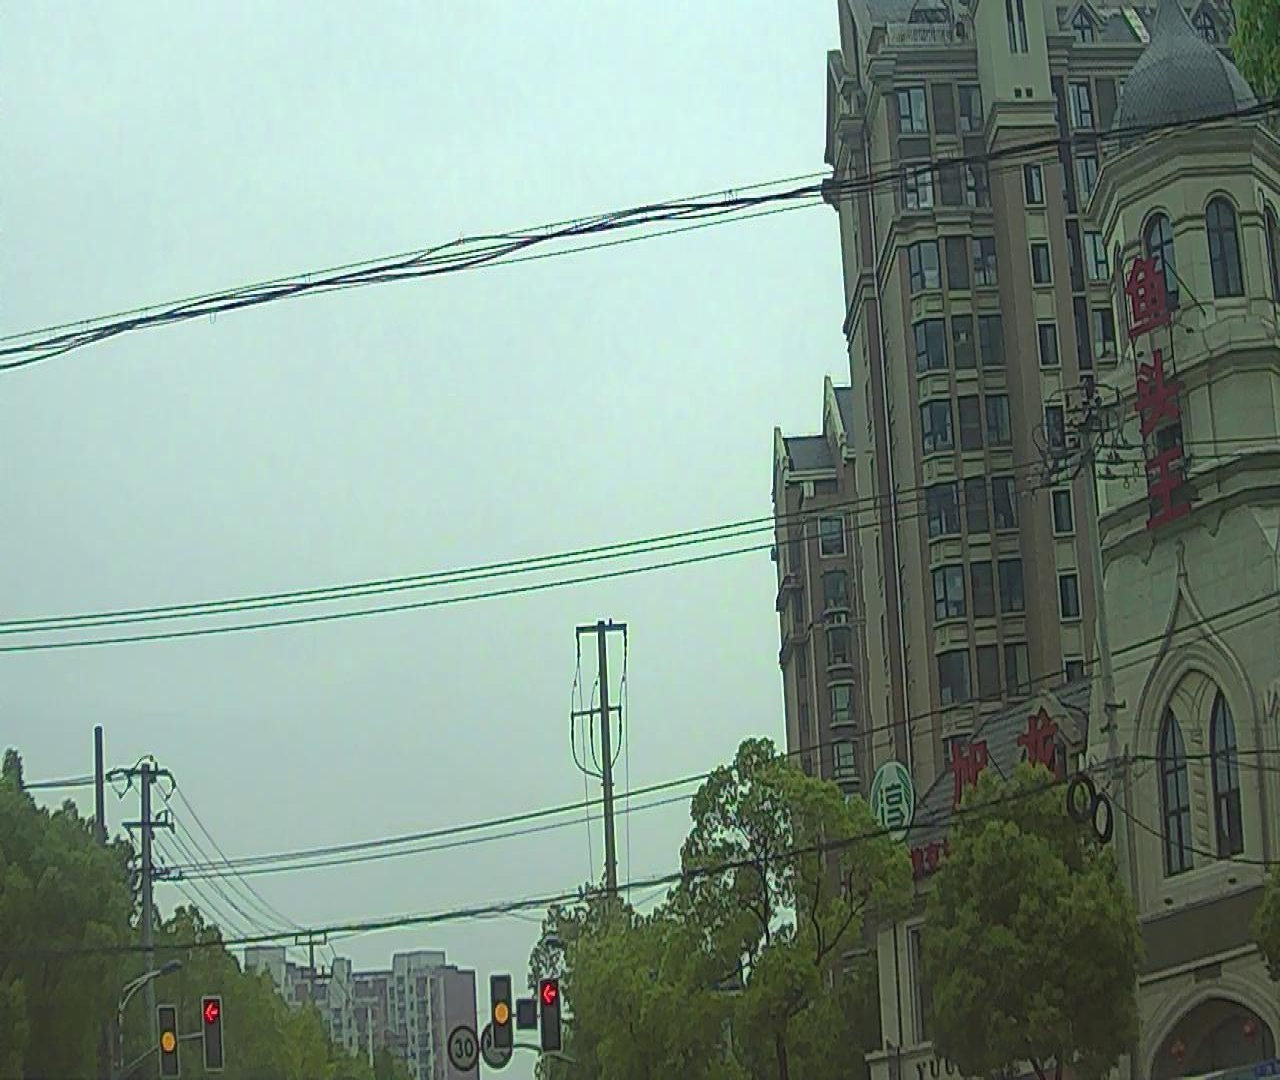red: (197, 997, 224, 1069), (538, 975, 563, 1048)
yellow: (490, 973, 514, 1051), (160, 1008, 178, 1080)
